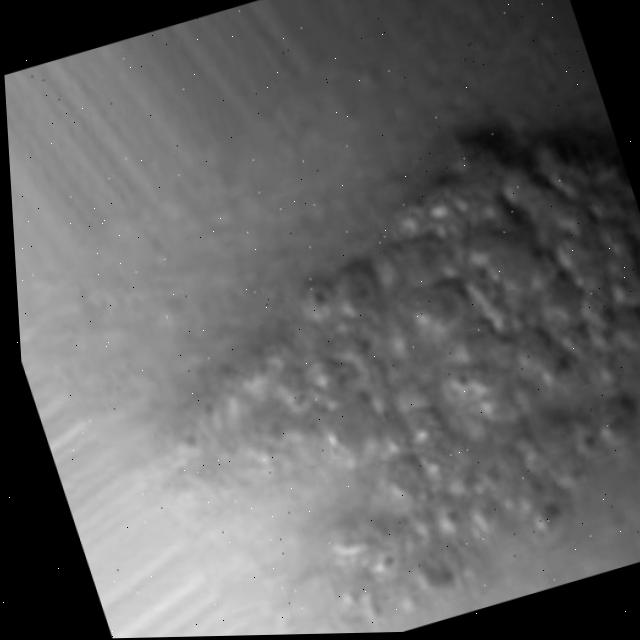Shingles: (85, 92, 640, 638)
